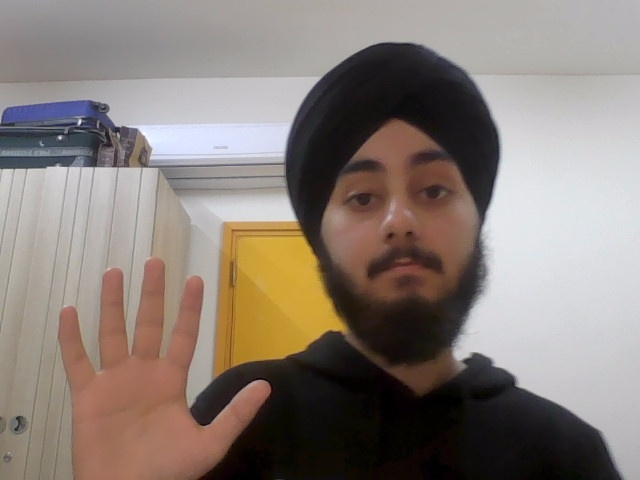Hello: (58, 253, 272, 480)
